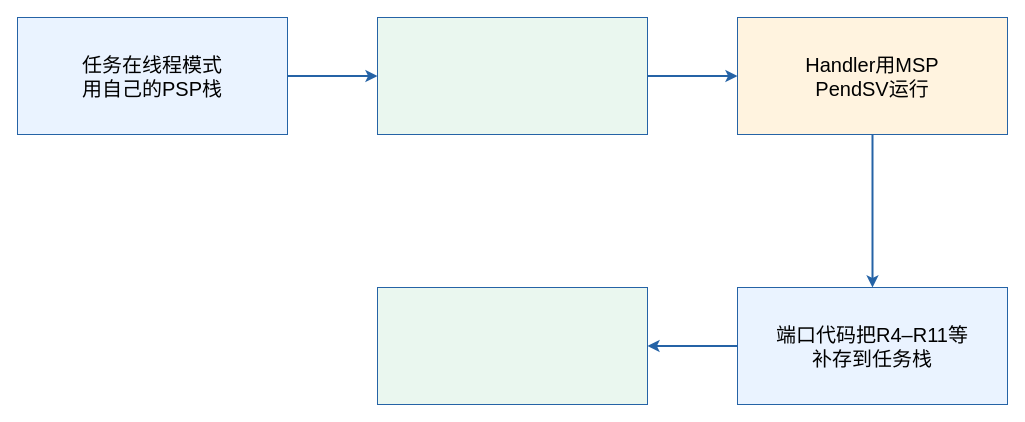
The diagram is 1025 pixels wide and 422 high, and some of its shapes have lost their labels. The shapes that lost their labels are listed below. From the top down, each one's centre as x and y in pixels, then its label:
At point (512, 75): "异常进入 硬件在原栈压8字现场".
At point (512, 345): "选择另一任务栈 恢复后异常返回".
